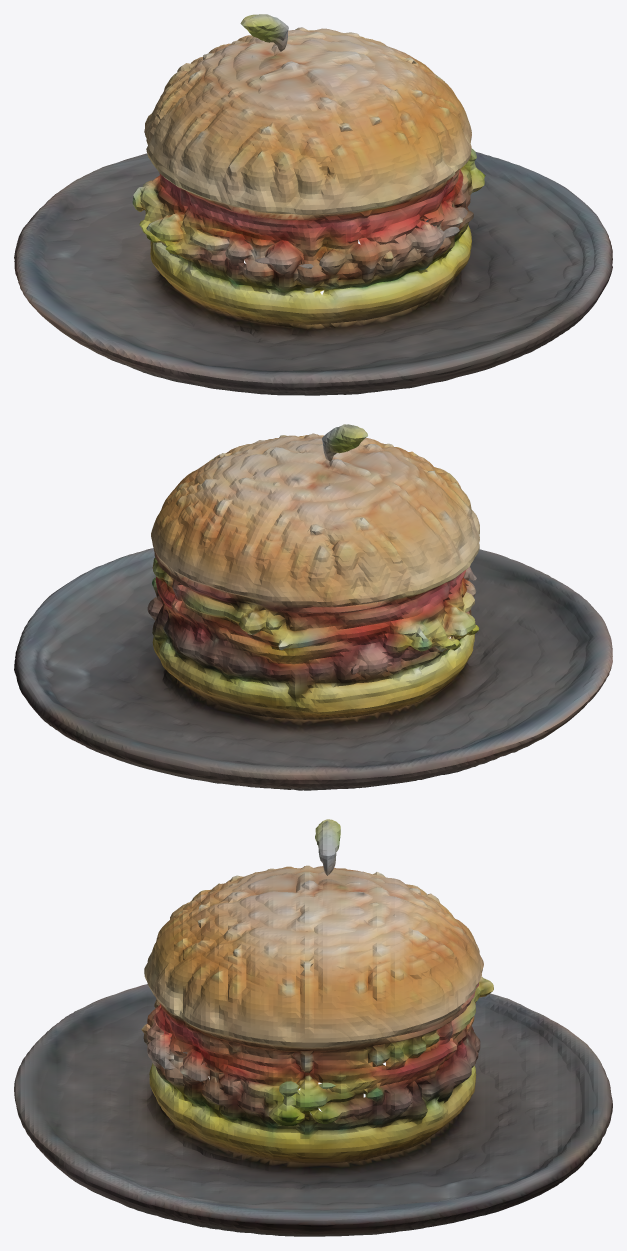
The model's file is hamburger.glb.
3 views of the same model, one above another, from view 1: azimuth 30°, elevation 25°; view 2: azimuth 150°, elevation 25°; view 3: azimuth 270°, elevation 25° (orthographic).
Visible parts, largest first — view 1: world; view 2: world; view 3: world.
Boxes of the visible parts, x1,y1,x2,y2 form: world: [14, 14, 612, 395]; world: [14, 424, 612, 790]; world: [14, 819, 612, 1236].
Size of the model in its own units: 0.9162 by 0.4868 by 0.9059.
